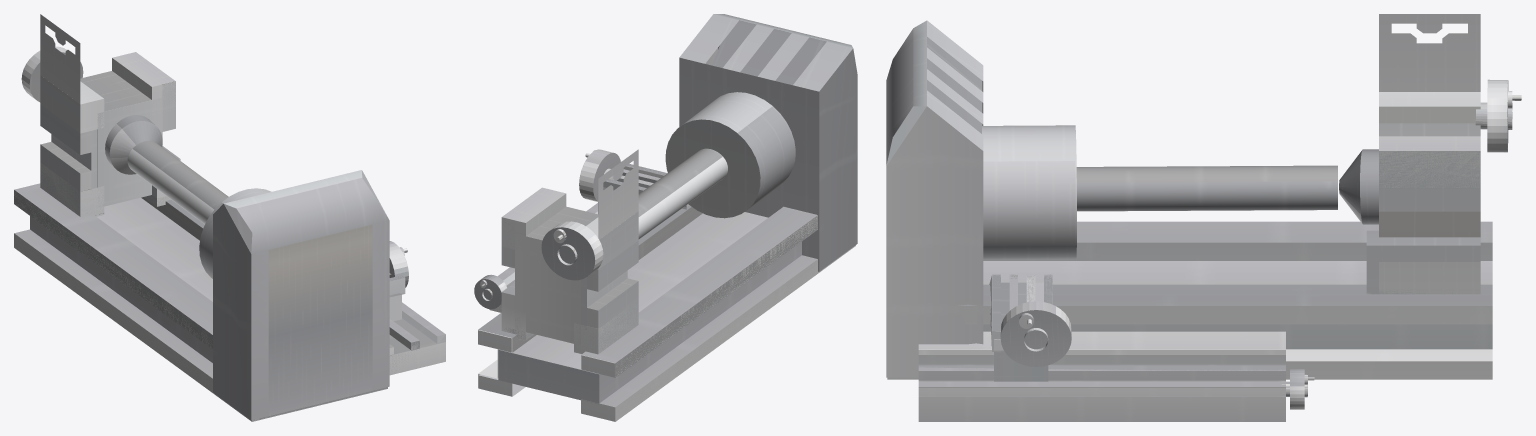
Rendered from untitled4_lab.fbx.
3 renders of one model, left to right at view 1: azimuth 30°, elevation 25°; view 2: azimuth 150°, elevation 25°; view 3: azimuth 270°, elevation 25°, orthographic. The views are drawn at different scales.
Parts seen in each view (by area): view 1: Боковая панель, Основание, Штатив 2, Заготовка, Для фрезы, Штатив сторона 2, Для фрезы.001, Цилиндр для заготовки, Вращалка.003; view 2: Основание, Боковая панель, Штатив 2, Цилиндр для заготовки, Заготовка, Вращалка.003, Для фрезы.001, Вращалка.001, Для фрезы; view 3: Основание, Для фрезы, Боковая панель, Штатив 2, Цилиндр для заготовки, Заготовка, Для фрезы.001, Штатив сторона 2, Вращалка.003, Вращалка.001.
Boxes of the visible parts, bbox=[...] form: Боковая панель: bbox=[213, 170, 389, 420]; Основание: bbox=[14, 183, 387, 421]; Штатив 2: bbox=[40, 14, 180, 216]; Заготовка: bbox=[127, 141, 228, 224]; Для фрезы: bbox=[389, 273, 445, 375]; Штатив сторона 2: bbox=[105, 115, 162, 174]; Для фрезы.001: bbox=[389, 241, 408, 321]; Цилиндр для заготовки: bbox=[199, 188, 271, 278]; Вращалка.003: bbox=[21, 46, 83, 102]; Основание: bbox=[478, 205, 855, 421]; Боковая панель: bbox=[679, 14, 857, 271]; Штатив 2: bbox=[501, 149, 638, 354]; Цилиндр для заготовки: bbox=[665, 92, 795, 218]; Заготовка: bbox=[638, 148, 727, 239]; Вращалка.003: bbox=[541, 221, 603, 280]; Для фрезы.001: bbox=[579, 149, 688, 213]; Вращалка.001: bbox=[474, 274, 506, 309]; Для фрезы: bbox=[489, 164, 667, 312]; Основание: bbox=[887, 221, 1492, 379]; Для фрезы: bbox=[918, 274, 1285, 421]; Боковая панель: bbox=[886, 20, 983, 377]; Штатив 2: bbox=[1366, 14, 1480, 294]; Цилиндр для заготовки: bbox=[982, 125, 1076, 259]; Заготовка: bbox=[1076, 165, 1337, 211]; Для фрезы.001: bbox=[989, 274, 1071, 381]; Штатив сторона 2: bbox=[1339, 149, 1378, 224]; Вращалка.003: bbox=[1475, 79, 1521, 152]; Вращалка.001: bbox=[1281, 369, 1314, 409].
Bounding box in the file's own units: 327 × 320 × 626.
